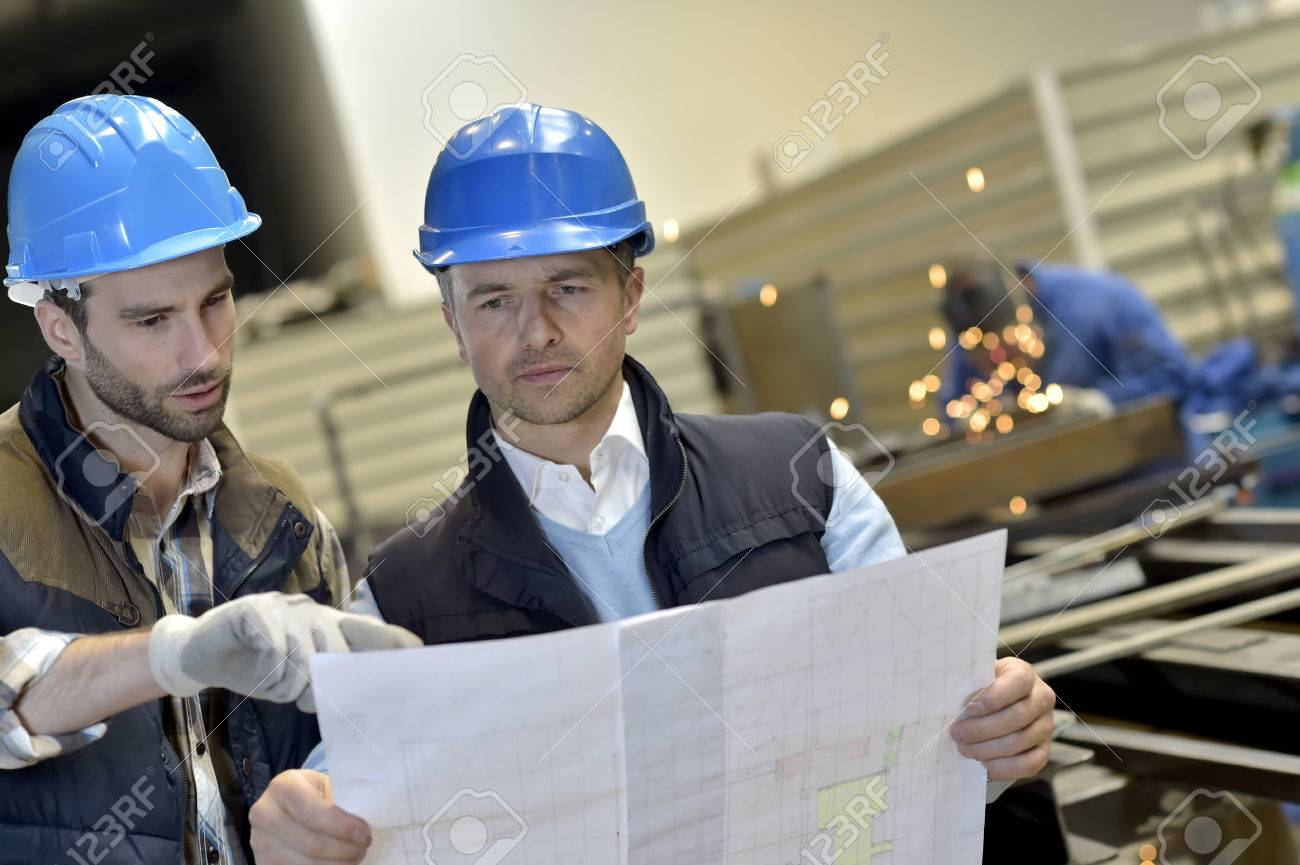casco: (1, 91, 267, 285), (412, 104, 658, 276)
